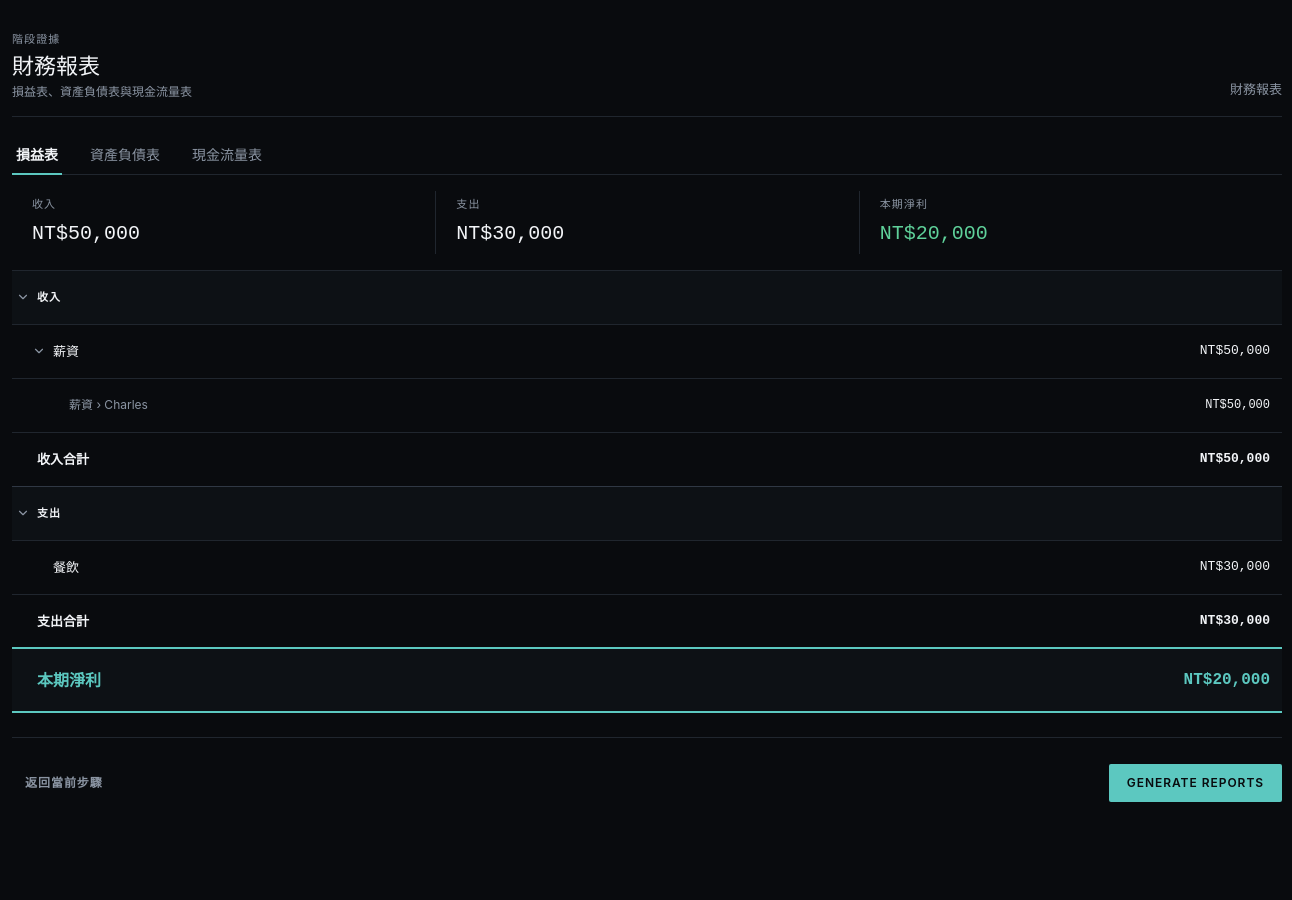
Test: CloseFinancialReports › renders the cash flow hierarchy with inflow/outflow buckets and the unchanged footer
Press the mouse on the tab "現金流量表" at (227, 158), box [188,141,266,175]
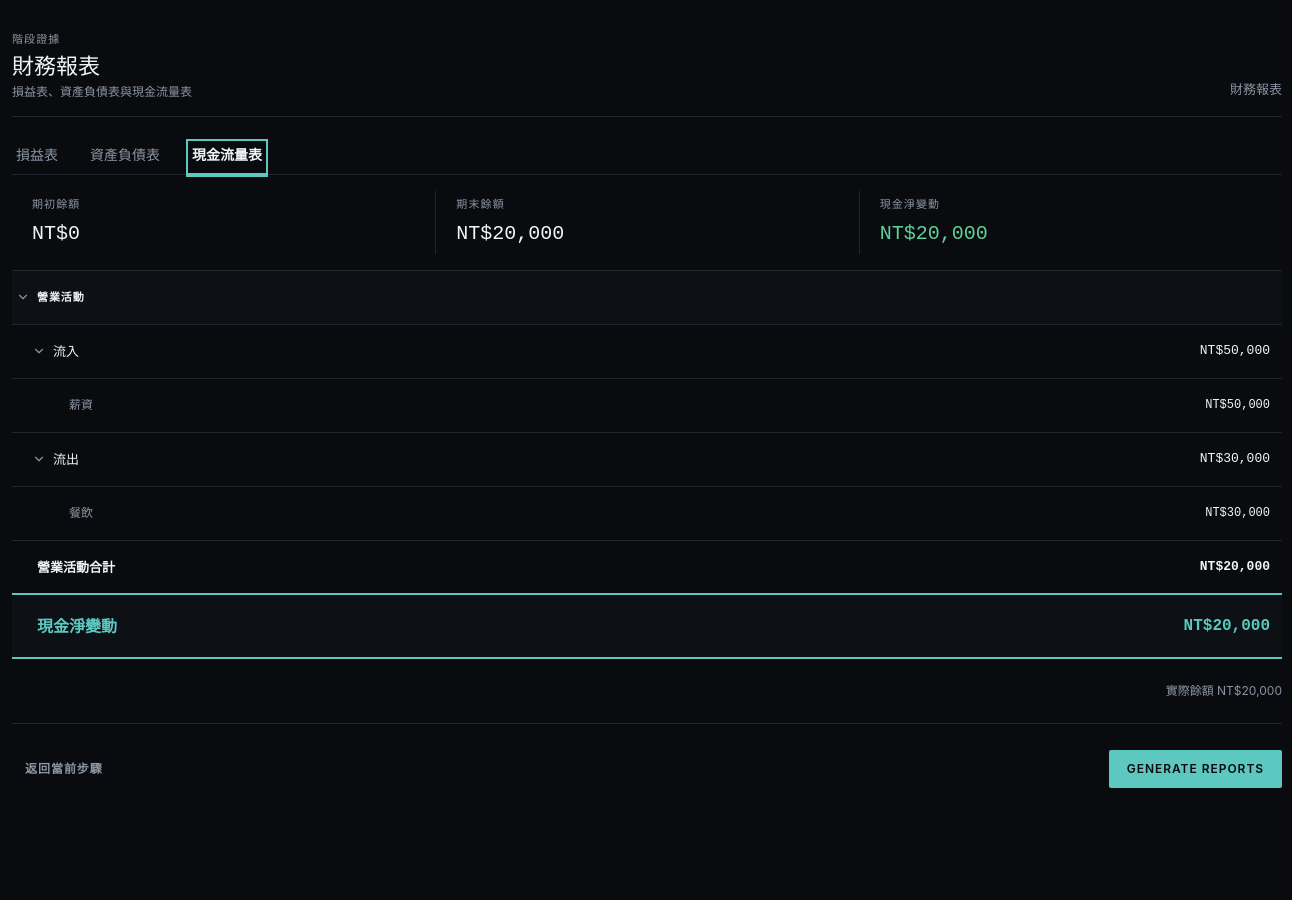
Expected: the element with test id "close-cash-flow" shows "營業活動", [37,290,84,304]
Expected: the element with test id "close-cash-flow" shows "流入", [53,343,79,359]
Expected: the element with test id "close-cash-flow" shows "流出", [53,451,79,467]
